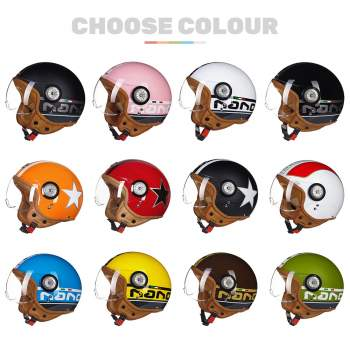with_helmet: (92, 60, 173, 141), (2, 61, 86, 136), (268, 61, 345, 137), (179, 61, 258, 135), (5, 157, 83, 230), (4, 250, 83, 321), (90, 250, 173, 314), (92, 159, 171, 226), (181, 158, 258, 225), (268, 160, 345, 226), (268, 250, 347, 312), (182, 252, 258, 314)
